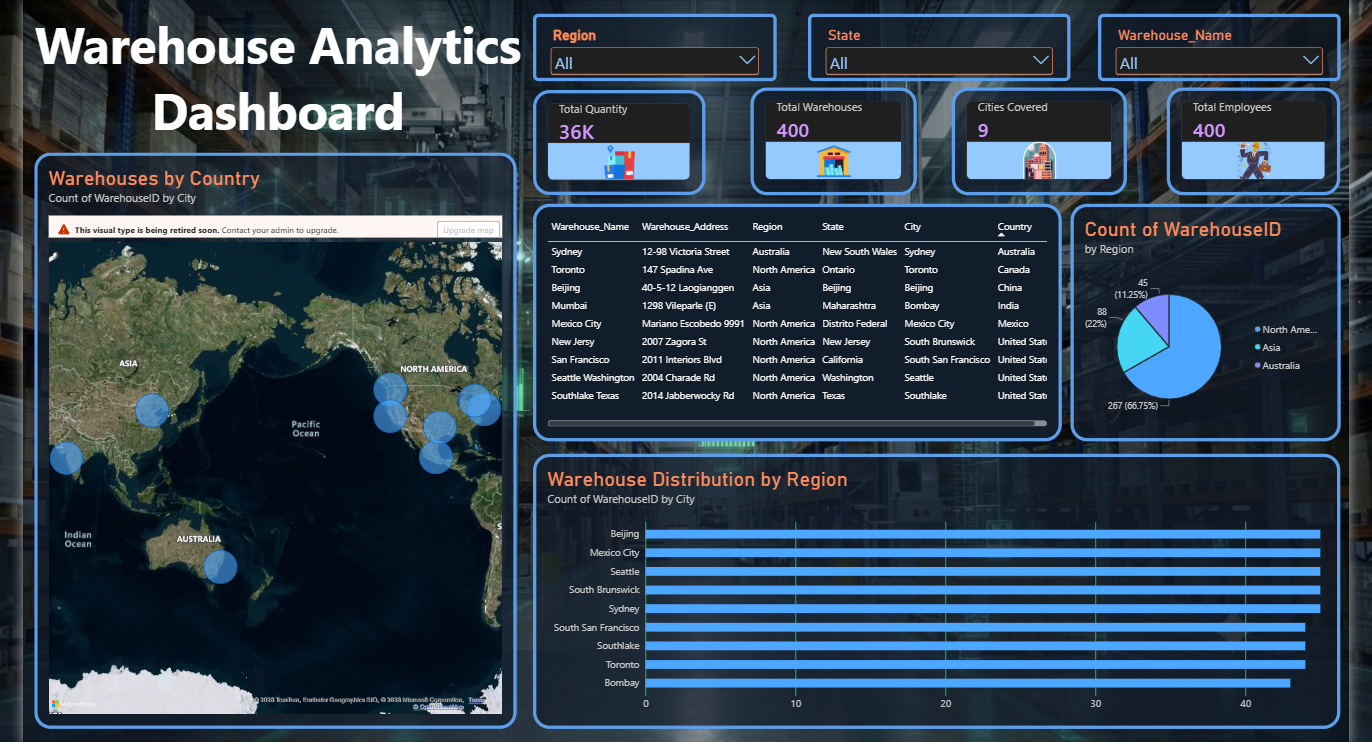

The dashboard page shown, as its layout file describes it:
{"tool":"powerbi","page":{"name":"Warehouse Analytics","canvas":[1920,1080],"ordinal":1},"visuals":[{"type":"cardVisual","fields":{"Data":["Customer.Total Warehouses"]},"box":[1053.2,126.7,240.7,155.6],"z":0},{"type":"cardVisual","fields":{"Data":["Customer.Total Quantity"]},"box":[738.3,130.3,249.7,152],"z":1000},{"type":"cardVisual","fields":{"Data":["Region.Cities Covered"]},"box":[1344.6,126.7,253.4,155.6],"z":2000},{"type":"cardVisual","fields":{"Data":["Employee.Total Employees"]},"box":[1655.8,126.7,251.5,155.6],"z":3000},{"type":"clusteredBarChart","title":"Warehouse Distribution by Region","fields":{"Category":["Region.City"],"Y":["Count(Warehouse.WarehouseID)"]},"box":[738.3,656.9,1169,398.1],"z":4000},{"type":"map","title":"Warehouses by Country","fields":{"Category":["Region.City"],"Size":["Count(Warehouse.WarehouseID)"]},"box":[16.3,220.8,698.5,834.3],"z":5000},{"type":"pieChart","fields":{"Category":["Region.Region"],"Y":["CountNonNull(Warehouse.WarehouseID)"]},"box":[1516.5,295,390.9,343.8],"z":6000},{"type":"tableEx","fields":{"Values":["Warehouse.Warehouse_Name","Warehouse.Warehouse_Address","Region.Region","Region.State","Region.City","Region.Country"]},"box":[738.3,295,765.5,343.8],"z":7000},{"type":"slicer","fields":{"Values":["Region.Region"]},"box":[738.3,19.9,352.9,97.7],"z":8000},{"type":"slicer","fields":{"Values":["Region.State"]},"box":[1136.5,19.9,380,97.7],"z":9000},{"type":"slicer","fields":{"Values":["Warehouse.Warehouse_Name"]},"box":[1556.3,19.9,351.1,97.7],"z":10000},{"type":"textbox","box":[0,0,738.3,235.3],"z":11000}]}

Visuals, with their boxes on the page's 1920x1080 design canvas (x1, y1, x2, y2). These are canvas units, not pixel positions in the 1372x742 screenshot, which may show the page scaled, cropped or inside an application window:
cardVisual - Customer.Total Warehouses: <bbox>1053, 127, 1294, 282</bbox>
cardVisual - Customer.Total Quantity: <bbox>738, 130, 988, 282</bbox>
cardVisual - Region.Cities Covered: <bbox>1345, 127, 1598, 282</bbox>
cardVisual - Employee.Total Employees: <bbox>1656, 127, 1907, 282</bbox>
"Warehouse Distribution by Region" clusteredBarChart: <bbox>738, 657, 1907, 1055</bbox>
"Warehouses by Country" map: <bbox>16, 221, 715, 1055</bbox>
pieChart - Region.Region x CountNonNull(Warehouse.WarehouseID): <bbox>1516, 295, 1907, 639</bbox>
tableEx - Warehouse.Warehouse_Name x Warehouse.Warehouse_Address: <bbox>738, 295, 1504, 639</bbox>
slicer - Region.Region: <bbox>738, 20, 1091, 118</bbox>
slicer - Region.State: <bbox>1136, 20, 1516, 118</bbox>
slicer - Warehouse.Warehouse_Name: <bbox>1556, 20, 1907, 118</bbox>
textbox: <bbox>0, 0, 738, 235</bbox>
